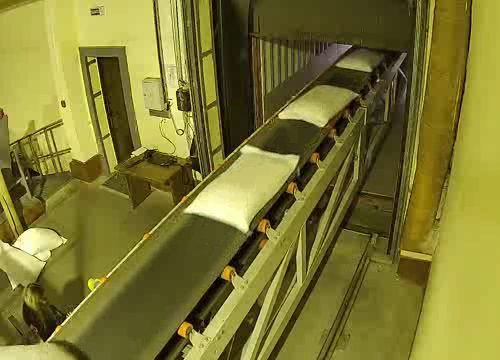bag: (178, 145, 308, 239), (277, 84, 361, 130), (0, 332, 90, 360), (331, 45, 387, 75)
